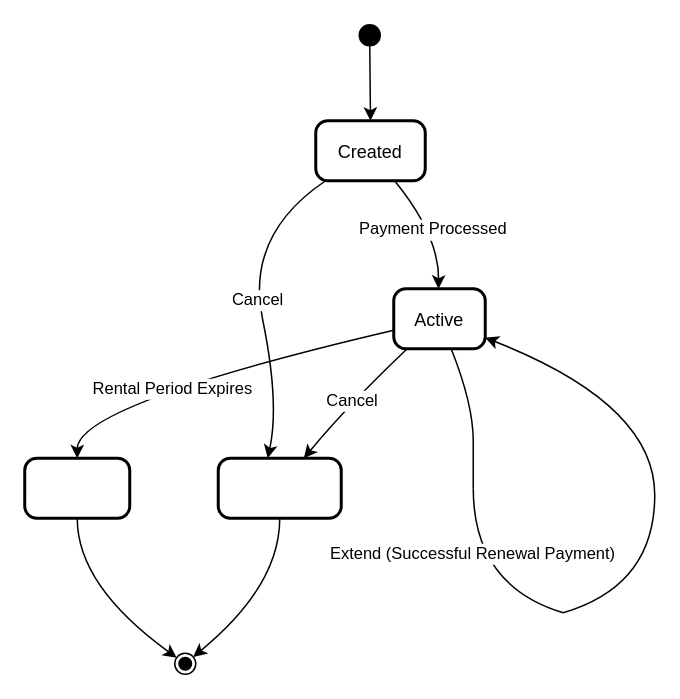
Image size: 680x699. Some labels were removed from this diagram. The centre of each missing label's shape, as x and y in pixels:
"Canceled" belongs at point (279, 487).
"Expired" belongs at point (76, 487).
